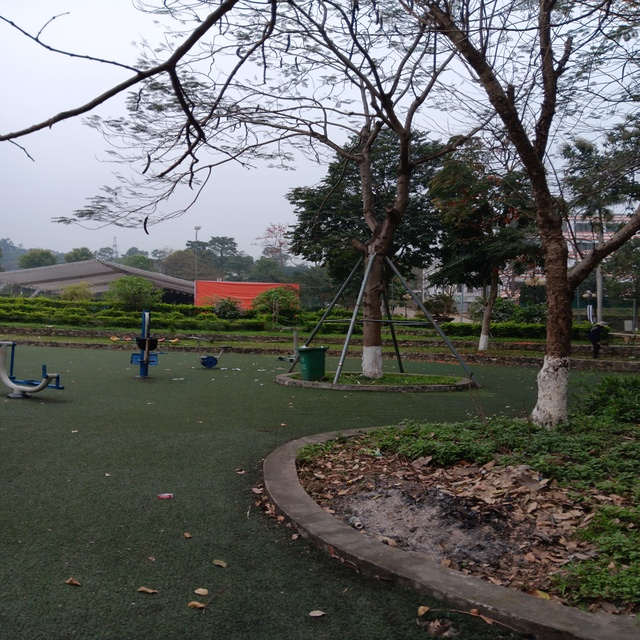thungrac: (300, 345, 327, 381)
